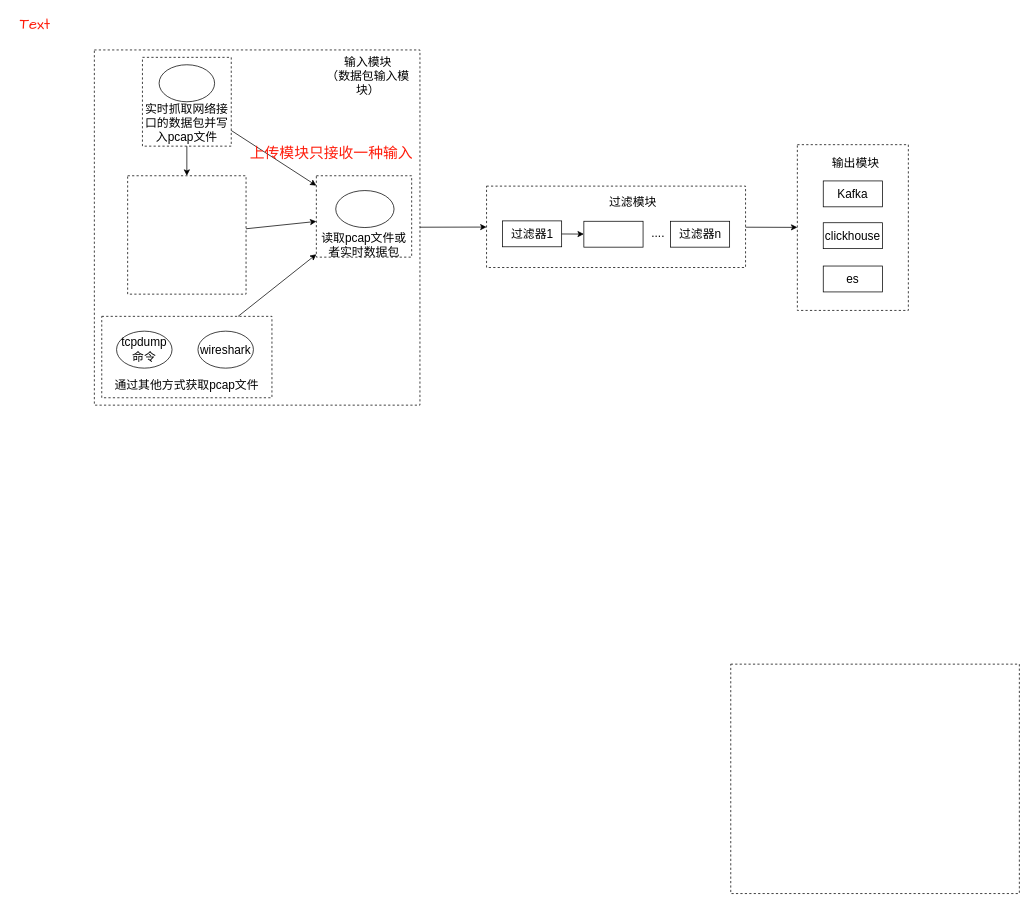
Some shapes in this 1032 by 907 pixel diagram are drawn without their labels. Each missing label, with the centre of its shape:
2023-1-20-10.pcap 2023-1-20-11.pcap 2023-1-20-12.pcap .... pcap文件，如按照分钟存储: [186,234]
上传模块: [364,209]
抓取模块: [186,83]
过滤器2: [613,234]
